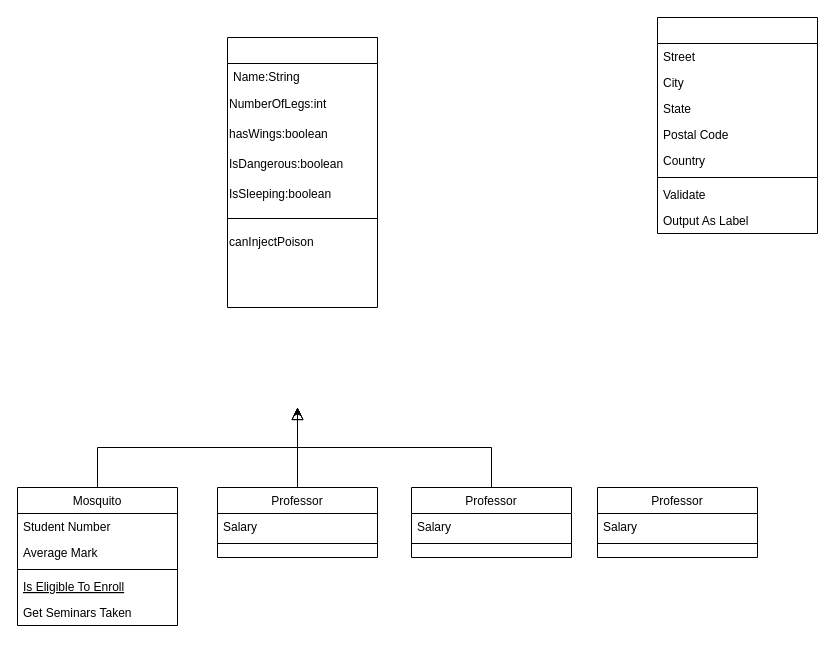
Image size: 835x646. Some labels were removed from this diagram. Here are the shapes that lost their labels. From the top down, the box of each, then its label:
(656, 16, 818, 234): Address
(226, 36, 378, 308): Insect
